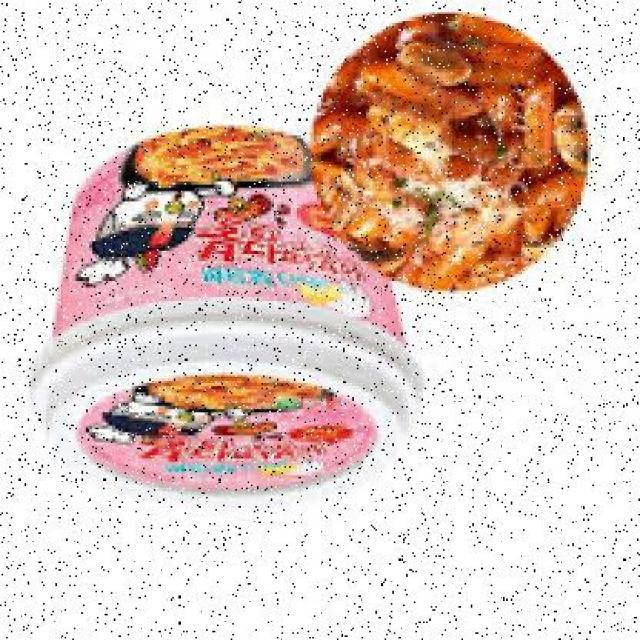Miscellaneous: (26, 122, 428, 510)
